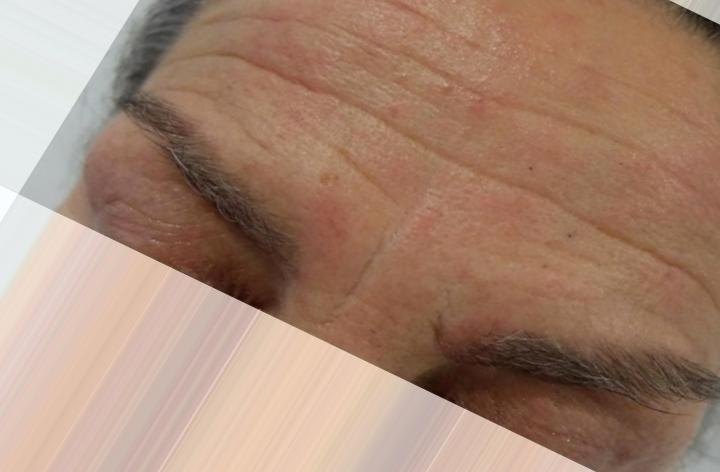Contact Dermatitis: (275, 0, 705, 245)
